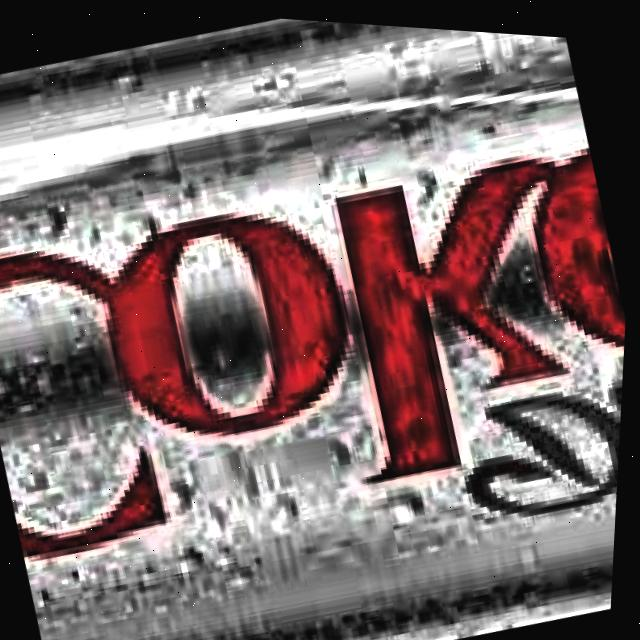metal: (0, 15, 629, 640)
